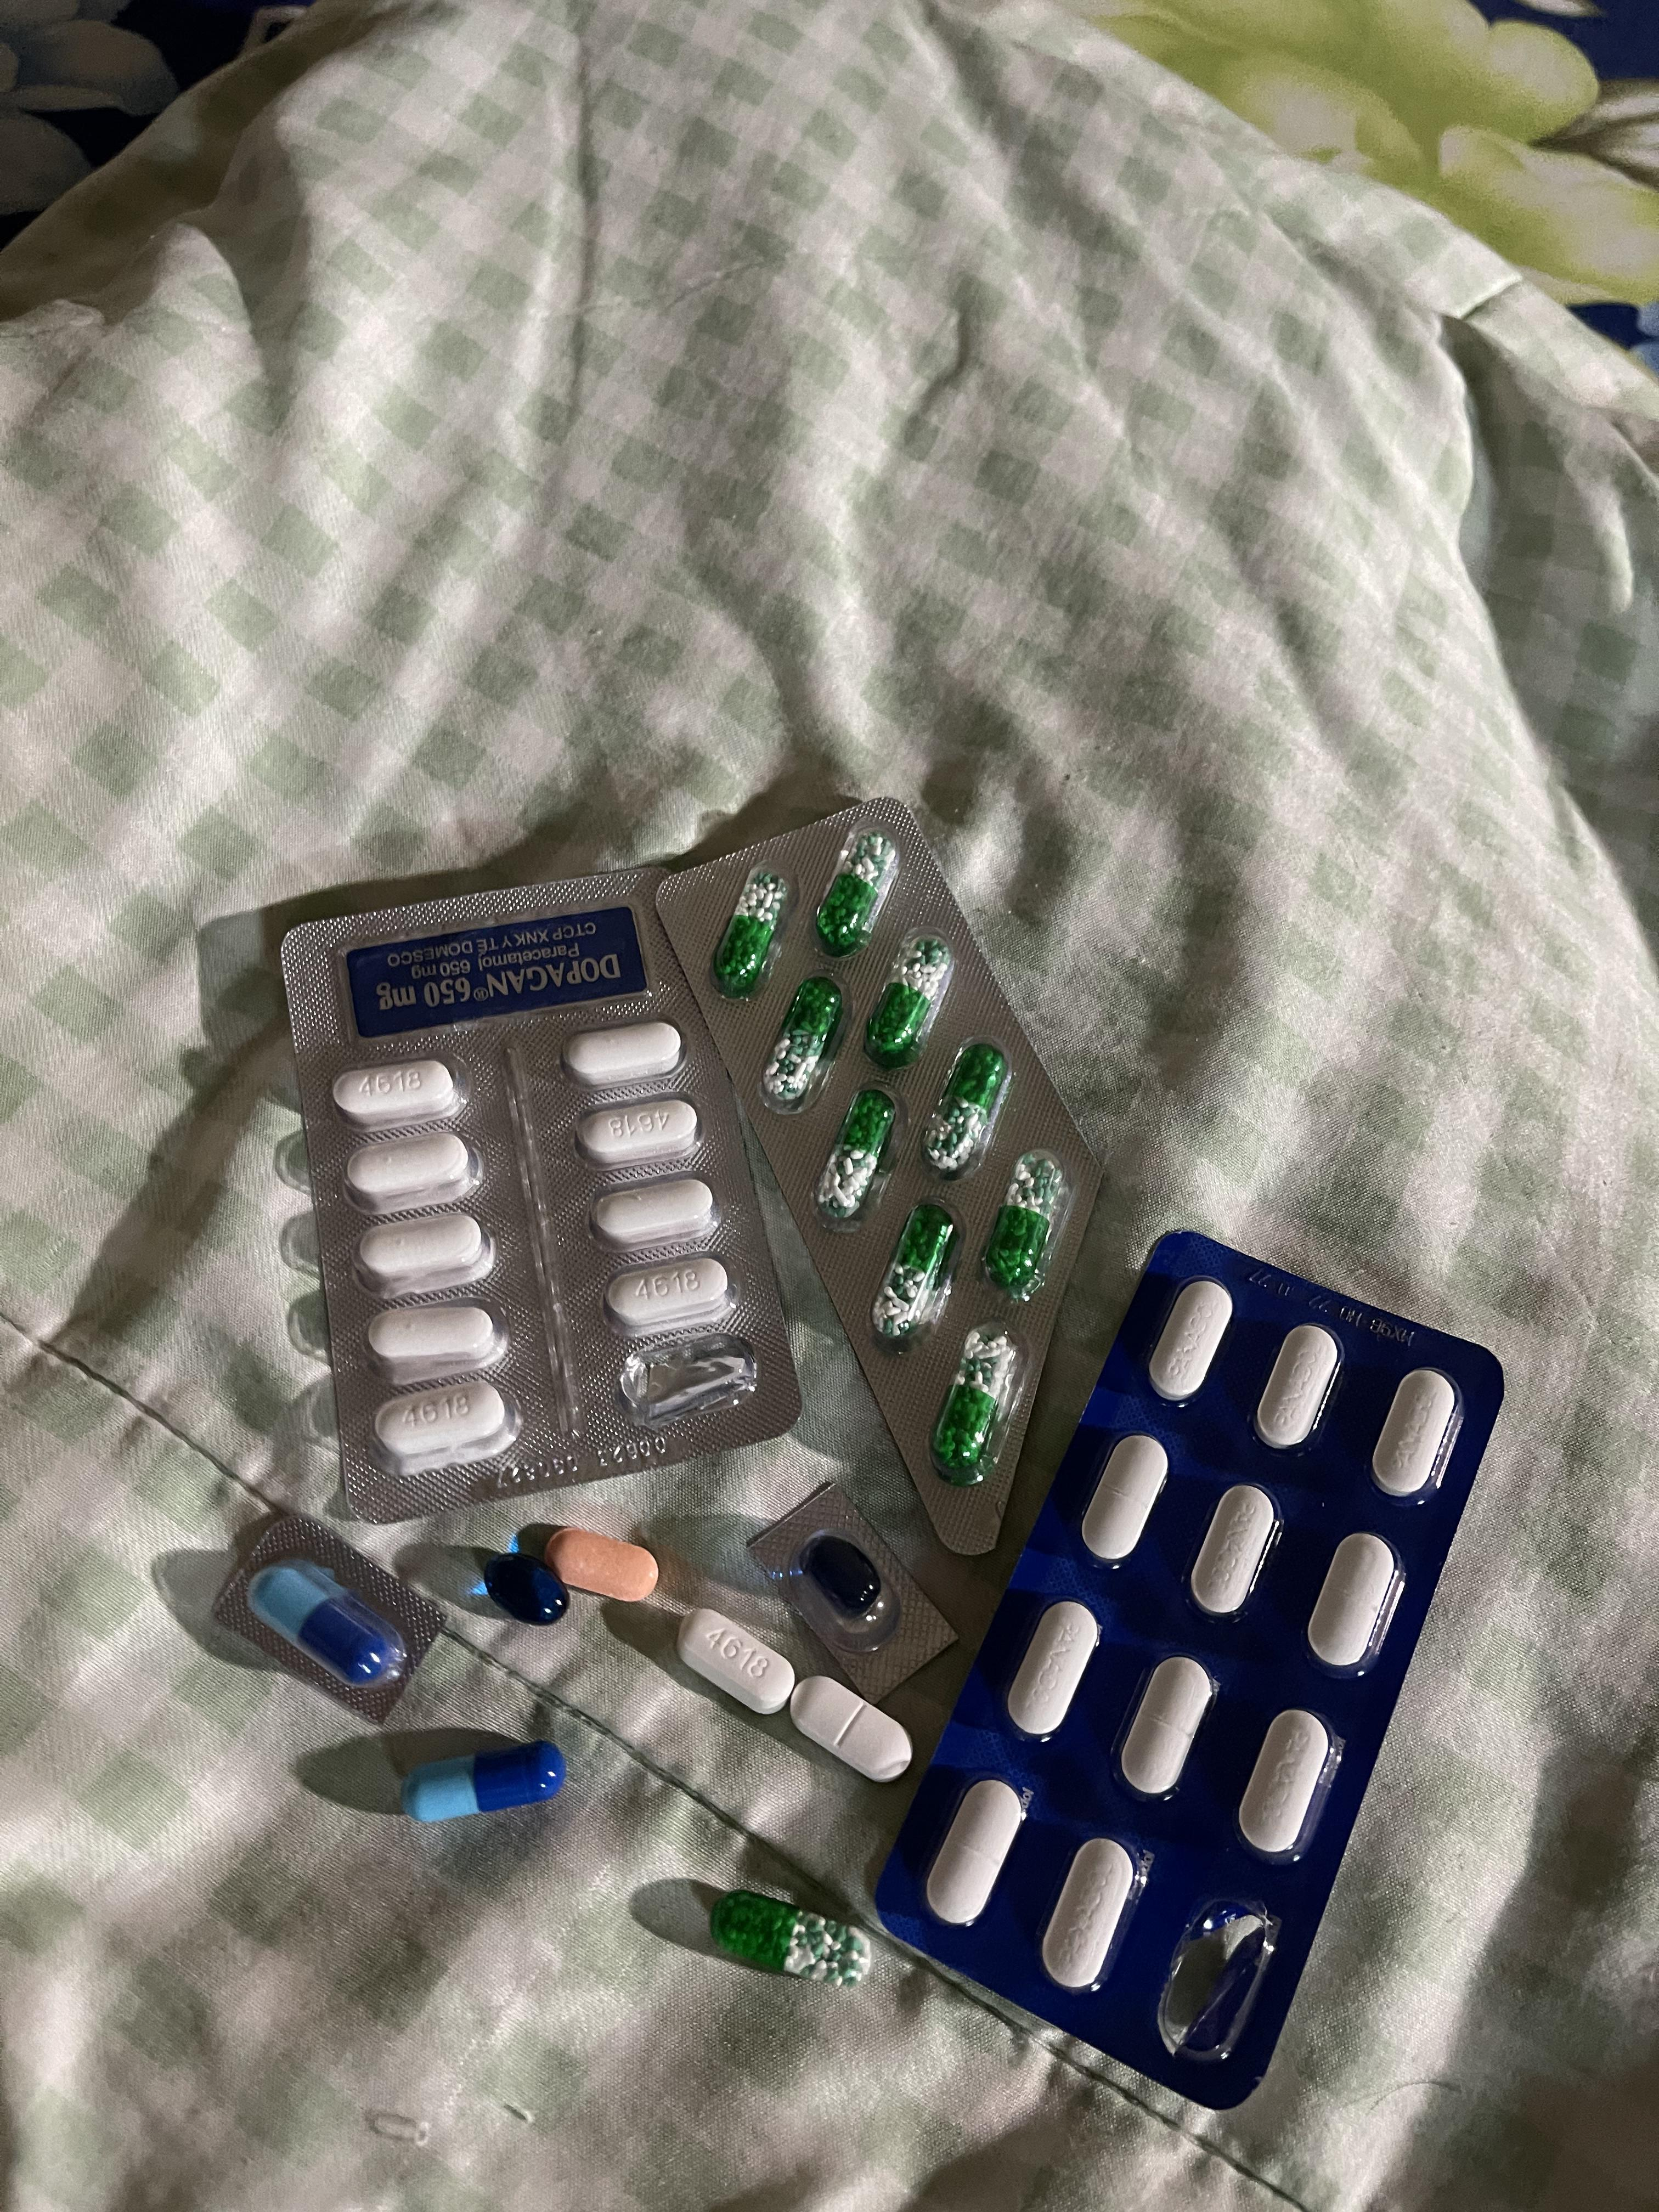Lincomyxin_500mg: (476, 1548, 570, 1627), (807, 1536, 882, 1615)
Loratadine_10mg: (547, 1527, 660, 1602)
Paracetamol_350mg: (1237, 1709, 1335, 1860), (1119, 1653, 1216, 1797), (1040, 1834, 1133, 1986), (927, 1778, 1021, 1926), (1309, 1531, 1403, 1672), (789, 1674, 911, 1782), (1006, 1602, 1098, 1738), (1188, 1484, 1279, 1620), (1253, 1324, 1344, 1449), (1371, 1369, 1460, 1496), (1082, 1432, 1168, 1557), (1148, 1278, 1234, 1395)
Paracetamol_500mg: (375, 1383, 514, 1468), (676, 1609, 789, 1714), (345, 1134, 477, 1212), (359, 1212, 493, 1289), (368, 1299, 502, 1374), (606, 1256, 728, 1329), (335, 1057, 462, 1127), (594, 1181, 714, 1251), (579, 1099, 699, 1167), (563, 1021, 680, 1090)
Paracetamol_650mg: (713, 1890, 870, 1984), (931, 1332, 1018, 1480), (871, 1207, 958, 1346), (985, 1153, 1065, 1298), (866, 942, 953, 1073), (922, 1043, 1007, 1176), (814, 1090, 897, 1224), (763, 979, 845, 1103), (817, 831, 897, 954), (713, 873, 786, 995)
pill: (247, 1557, 408, 1689), (401, 1742, 565, 1824)
